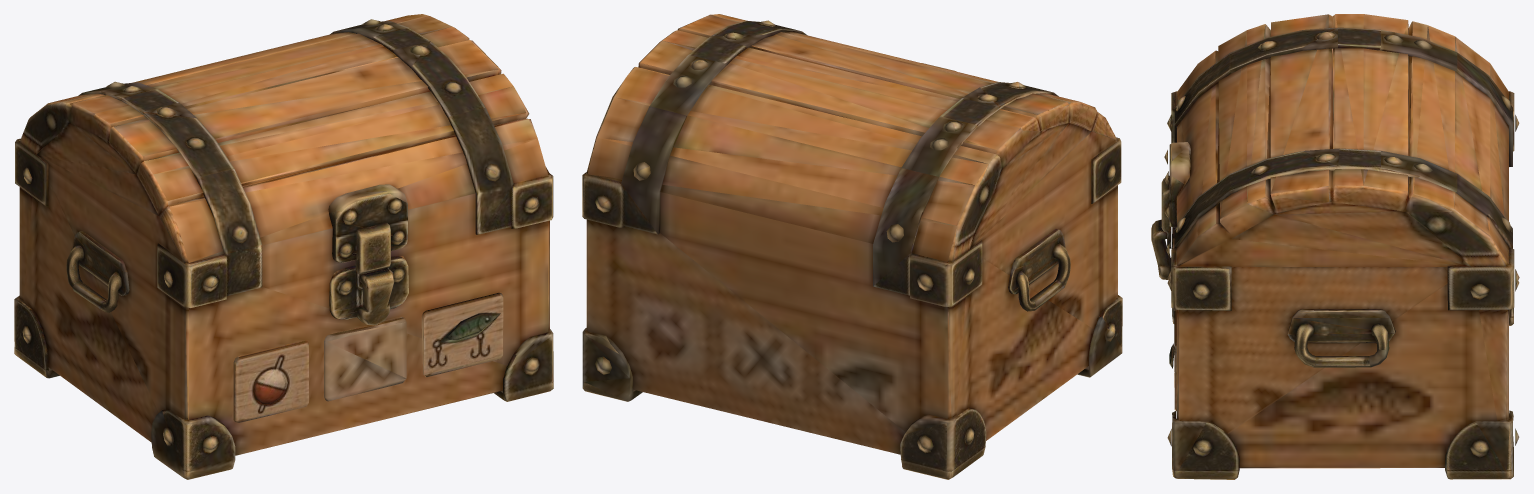
File: diorama-chest.glb
3 views of the same model, side by side, from view 1: azimuth 30°, elevation 25°; view 2: azimuth 150°, elevation 25°; view 3: azimuth 270°, elevation 25° (orthographic).
Size of the model in its own units: 0.9575 by 0.6992 by 0.7808.
1 material, 1 textured.
